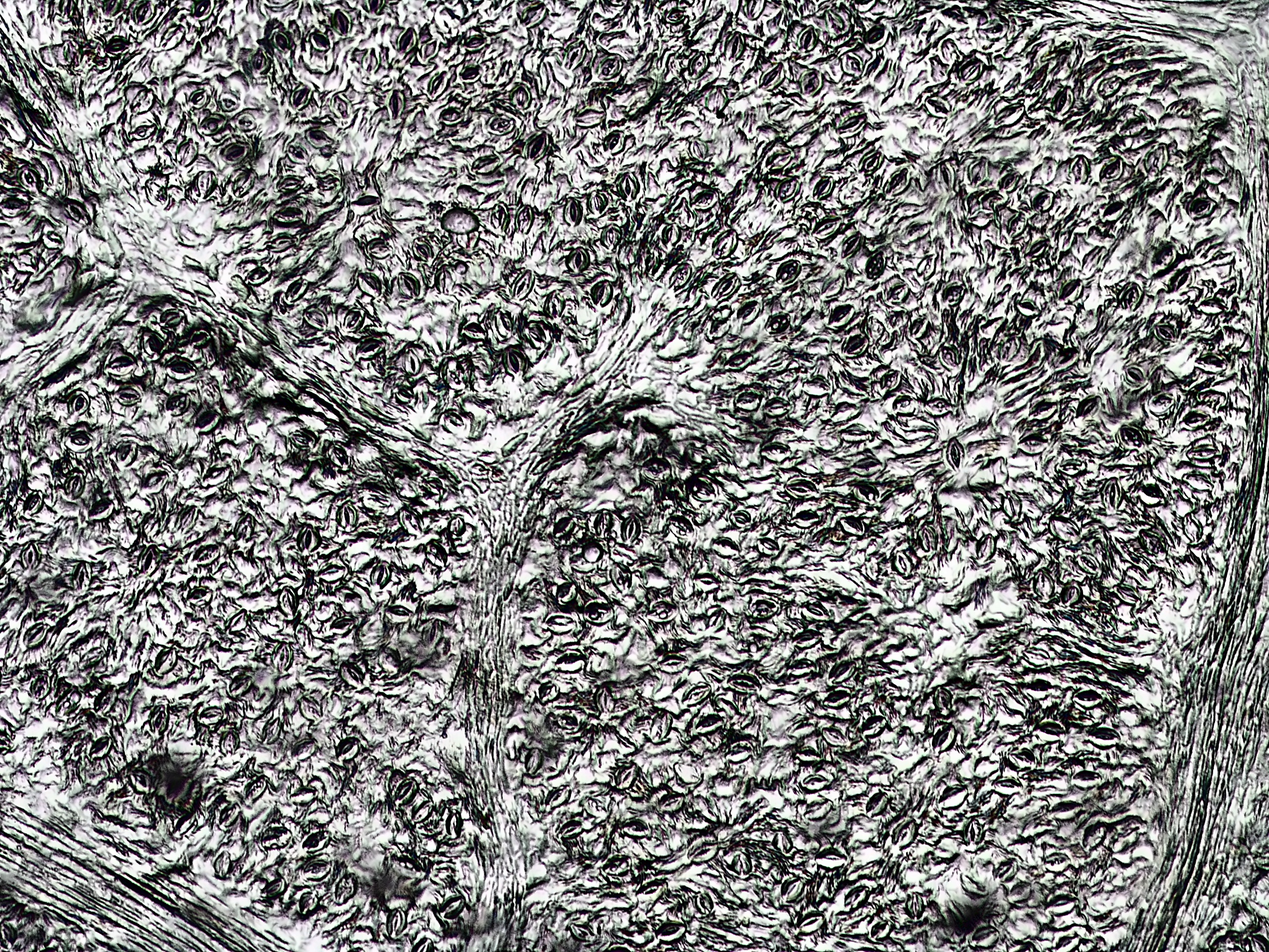stomata: (165, 355, 198, 382), (1068, 156, 1095, 186), (1050, 87, 1076, 118), (649, 599, 680, 625), (641, 459, 674, 483), (231, 169, 258, 198), (582, 600, 616, 623), (469, 152, 500, 177), (419, 619, 445, 648), (714, 230, 739, 260), (616, 171, 639, 203), (274, 641, 295, 676), (140, 330, 168, 356), (153, 647, 179, 675), (340, 659, 365, 688), (885, 167, 910, 196), (226, 672, 256, 696), (433, 265, 457, 295), (260, 827, 291, 850), (730, 672, 762, 694), (775, 259, 801, 286), (773, 177, 801, 202), (116, 437, 140, 466), (995, 104, 1024, 128), (608, 563, 632, 592), (150, 702, 171, 735), (504, 348, 527, 378), (760, 62, 783, 92), (712, 536, 742, 559), (683, 684, 714, 706), (106, 354, 138, 375), (574, 107, 606, 128), (146, 179, 169, 208), (334, 502, 357, 531), (288, 426, 317, 449), (593, 686, 616, 715), (99, 35, 132, 55), (19, 542, 41, 572), (724, 32, 745, 63), (666, 516, 697, 537), (713, 275, 739, 300), (838, 51, 864, 76), (303, 857, 331, 880), (488, 203, 511, 231), (797, 68, 820, 96), (924, 95, 952, 118), (566, 42, 586, 74), (513, 269, 533, 301), (299, 524, 320, 554), (336, 872, 357, 902), (968, 158, 989, 188), (128, 767, 153, 792), (67, 428, 93, 452), (411, 800, 437, 824), (525, 131, 548, 158), (688, 477, 715, 500), (649, 713, 672, 740), (141, 472, 169, 494), (604, 128, 626, 156), (355, 337, 384, 358), (318, 562, 347, 583), (925, 396, 954, 417), (937, 161, 956, 193), (553, 652, 585, 671), (195, 407, 220, 431), (23, 624, 48, 648), (492, 310, 516, 335), (837, 115, 867, 135), (766, 147, 791, 171), (380, 647, 404, 672), (132, 89, 155, 115), (399, 272, 422, 298), (330, 443, 353, 469), (200, 113, 227, 135), (244, 775, 266, 802), (387, 602, 414, 624), (765, 313, 792, 335), (657, 654, 688, 673), (303, 830, 331, 851), (401, 506, 422, 534), (689, 48, 709, 77), (724, 352, 753, 372), (674, 762, 703, 782), (441, 894, 465, 918), (565, 198, 583, 230), (358, 271, 383, 294), (64, 390, 87, 415), (298, 694, 321, 719), (797, 26, 820, 51), (736, 299, 758, 325), (387, 907, 406, 937), (545, 614, 575, 633), (193, 545, 220, 566), (843, 336, 870, 357), (620, 516, 641, 543), (263, 718, 283, 746), (489, 116, 517, 136), (599, 54, 622, 78), (695, 712, 719, 735), (73, 564, 92, 593), (296, 891, 318, 916), (569, 247, 590, 273), (707, 86, 728, 112), (592, 511, 613, 537), (0, 197, 27, 217), (175, 139, 195, 166), (305, 128, 335, 146), (279, 586, 297, 616), (592, 279, 612, 306), (661, 221, 681, 248), (293, 622, 312, 650), (446, 810, 465, 838), (842, 231, 861, 259), (866, 252, 885, 280), (692, 572, 720, 591), (616, 762, 635, 790), (351, 194, 384, 210), (284, 279, 308, 301), (443, 367, 467, 389), (1060, 280, 1082, 304), (115, 386, 140, 407), (187, 586, 212, 607), (425, 543, 446, 568), (693, 188, 718, 209), (387, 89, 405, 118), (142, 546, 160, 575), (66, 471, 86, 497), (439, 413, 465, 433), (546, 291, 566, 317), (659, 793, 685, 813), (275, 205, 302, 224), (365, 237, 392, 256), (429, 71, 448, 98), (460, 321, 487, 340), (304, 307, 327, 329), (555, 582, 577, 605), (538, 682, 561, 704), (547, 786, 570, 808), (202, 465, 226, 486), (216, 852, 234, 880), (863, 25, 887, 46), (813, 218, 841, 236), (223, 141, 248, 161), (287, 142, 312, 162), (166, 395, 191, 415), (601, 225, 621, 250), (829, 305, 854, 325), (371, 562, 390, 588), (277, 174, 304, 192), (587, 188, 605, 215), (338, 736, 360, 758), (290, 85, 311, 108), (960, 58, 981, 81), (585, 796, 608, 817), (134, 1, 154, 25), (521, 5, 545, 25), (670, 263, 690, 287), (623, 819, 647, 839), (267, 236, 295, 253), (65, 197, 84, 222), (89, 501, 114, 520), (177, 506, 196, 531), (235, 514, 254, 539), (197, 171, 215, 197), (332, 93, 350, 119), (246, 266, 272, 284), (516, 206, 532, 235), (20, 168, 41, 190), (878, 371, 900, 392), (293, 738, 316, 758), (421, 475, 444, 495), (397, 28, 416, 52), (24, 490, 43, 514), (757, 537, 781, 556), (250, 48, 268, 73), (229, 607, 247, 632), (522, 748, 539, 774), (412, 239, 433, 260), (346, 307, 366, 329), (510, 87, 530, 109), (813, 178, 833, 200), (887, 284, 909, 304), (942, 286, 964, 306), (552, 517, 574, 537), (158, 305, 182, 323), (558, 821, 582, 839), (130, 122, 155, 139), (221, 730, 238, 755), (261, 879, 286, 896), (235, 110, 256, 130), (525, 325, 545, 346), (332, 615, 355, 633), (732, 509, 752, 529), (396, 780, 415, 801), (447, 515, 466, 536), (1002, 170, 1021, 191), (895, 397, 916, 416), (311, 28, 329, 50), (91, 738, 109, 760), (941, 345, 959, 367), (220, 805, 237, 828), (465, 31, 485, 50), (744, 0, 764, 19), (194, 0, 212, 21), (192, 325, 213, 343), (203, 706, 224, 724), (909, 317, 927, 338), (362, 49, 379, 71), (405, 350, 420, 374), (865, 154, 882, 175), (333, 10, 348, 33), (1018, 298, 1038, 315), (462, 65, 483, 81), (441, 109, 462, 125), (271, 33, 289, 51), (412, 938, 435, 952), (692, 137, 706, 160), (645, 250, 659, 272), (666, 8, 685, 24), (854, 0, 877, 12), (192, 88, 206, 107), (397, 386, 414, 401), (366, 0, 385, 12)
